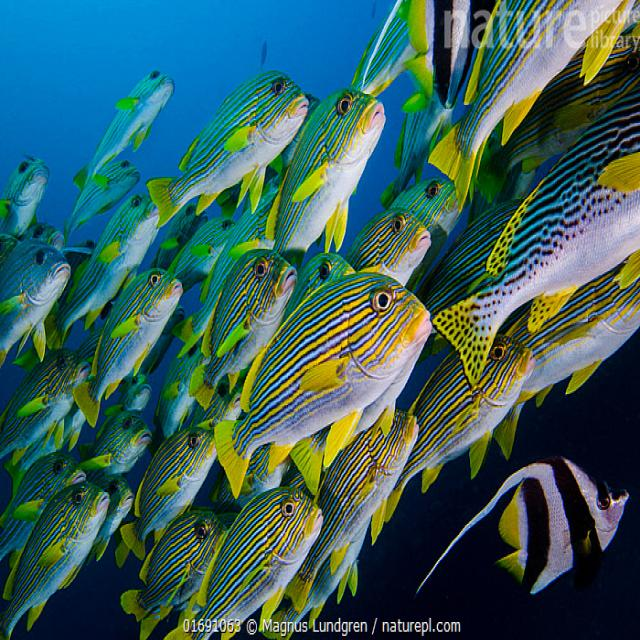RibbonedSweetlips: (214, 269, 433, 502), (427, 0, 640, 213), (386, 333, 535, 522), (284, 406, 419, 612), (146, 68, 309, 228), (164, 486, 323, 640), (264, 86, 386, 273), (45, 191, 161, 348), (0, 478, 110, 640), (188, 245, 296, 410), (73, 266, 182, 428), (121, 506, 226, 640), (121, 422, 217, 560), (0, 347, 91, 459), (0, 235, 71, 367), (346, 204, 432, 287)
